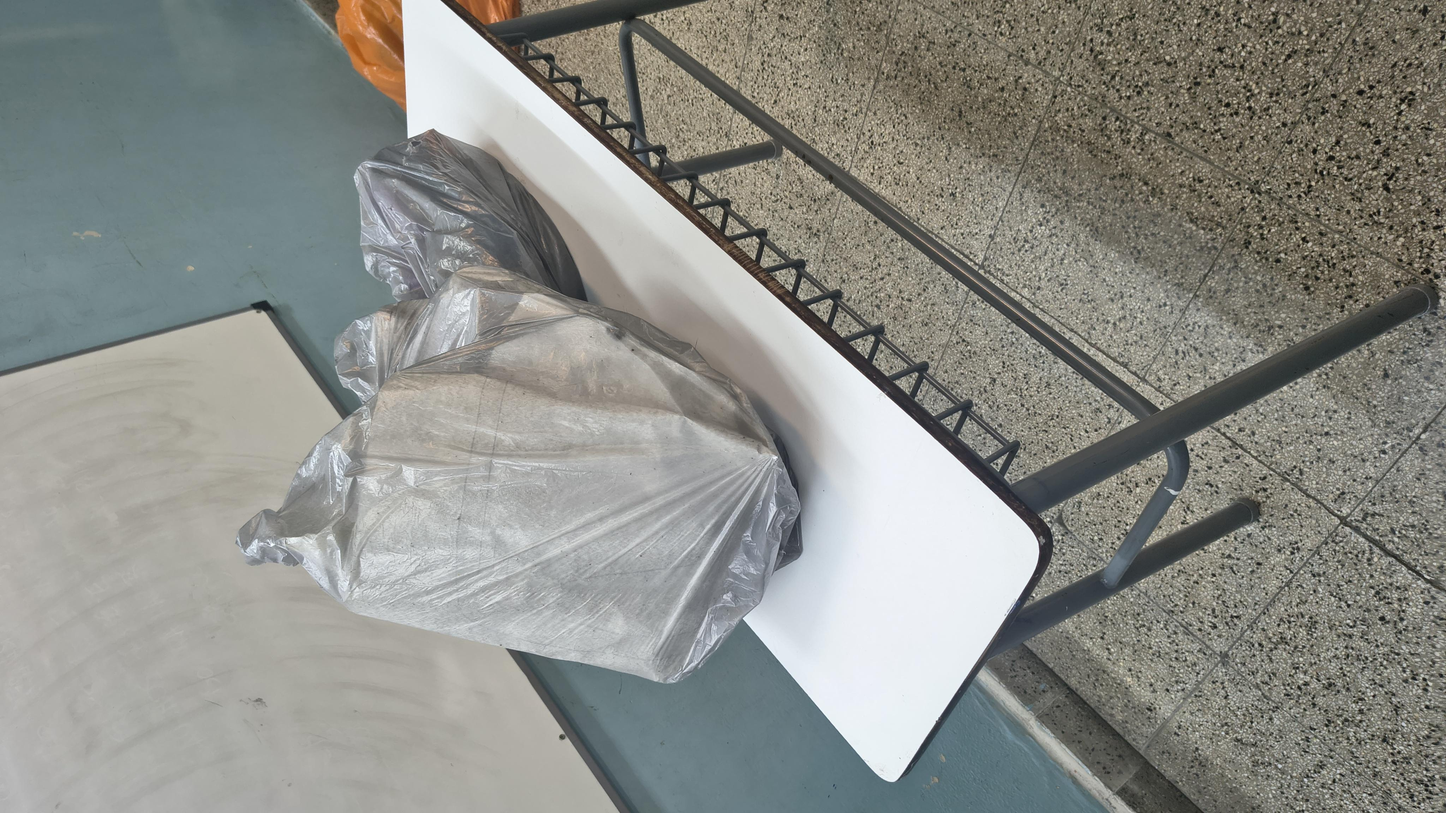Garbage: (201, 121, 973, 470), (759, 149, 1305, 341)
